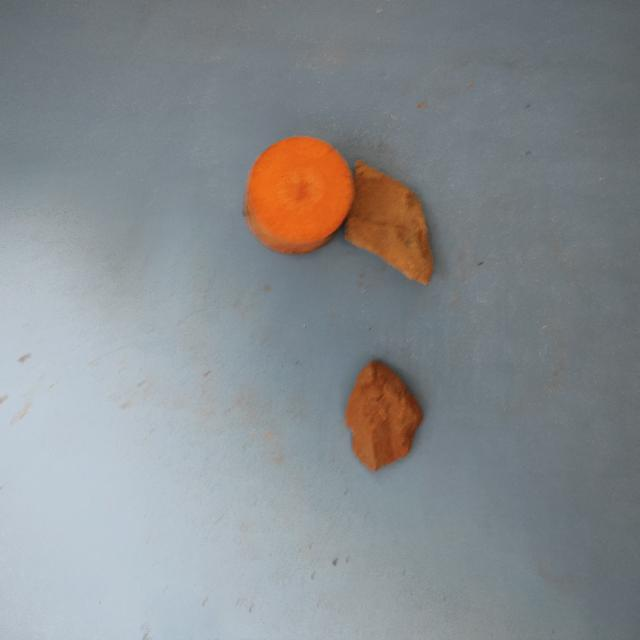-Kitchen waste - carrot-: (240, 134, 358, 243)
-Other waste - brick-: (348, 162, 435, 286), (342, 356, 428, 475)
